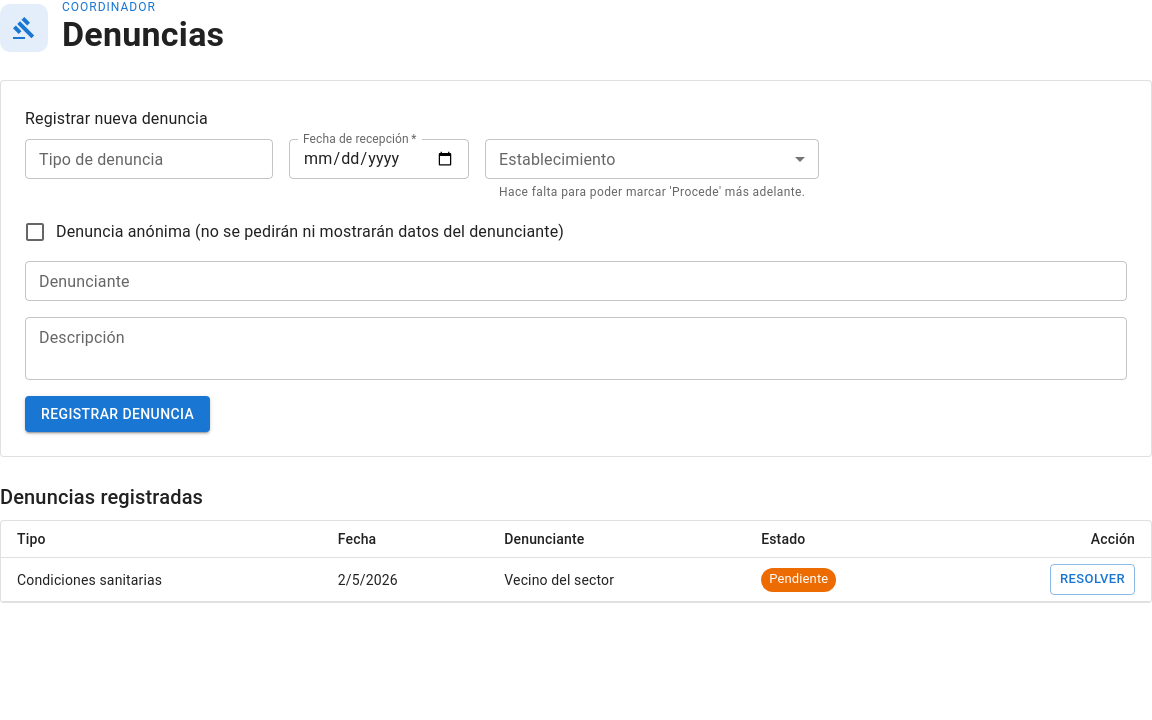
Denuncias › el diálogo de resolver ofrece las 3 decisiones: Procede, No procede, Remisión
This screenshot has width=1152, height=720.
Check: the text "Condiciones sanitarias" is shown, box [1,558,322,602]
Click the button "Resolver": (1093, 580) [1050,564,1135,595]
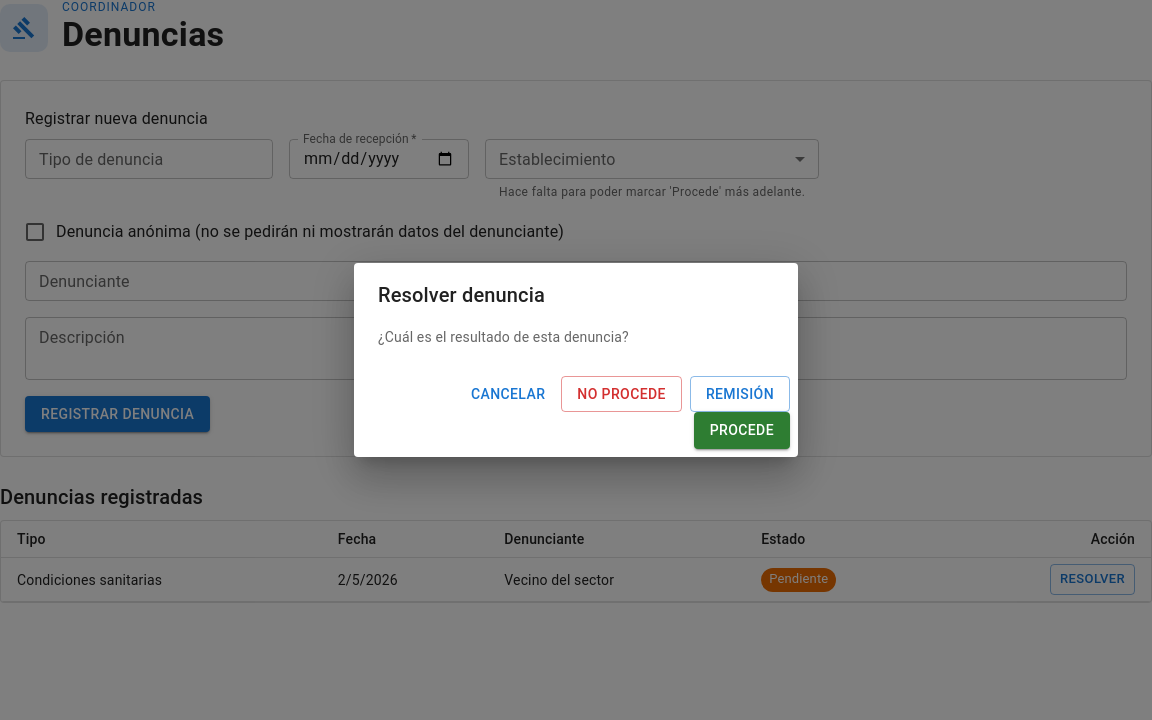
Check: the button "Procede" is shown, box [694,412,790,448]
Check: the button "No procede" is shown, box [561,376,682,412]
Check: the button "Remisión" is shown, box [690,376,790,412]
